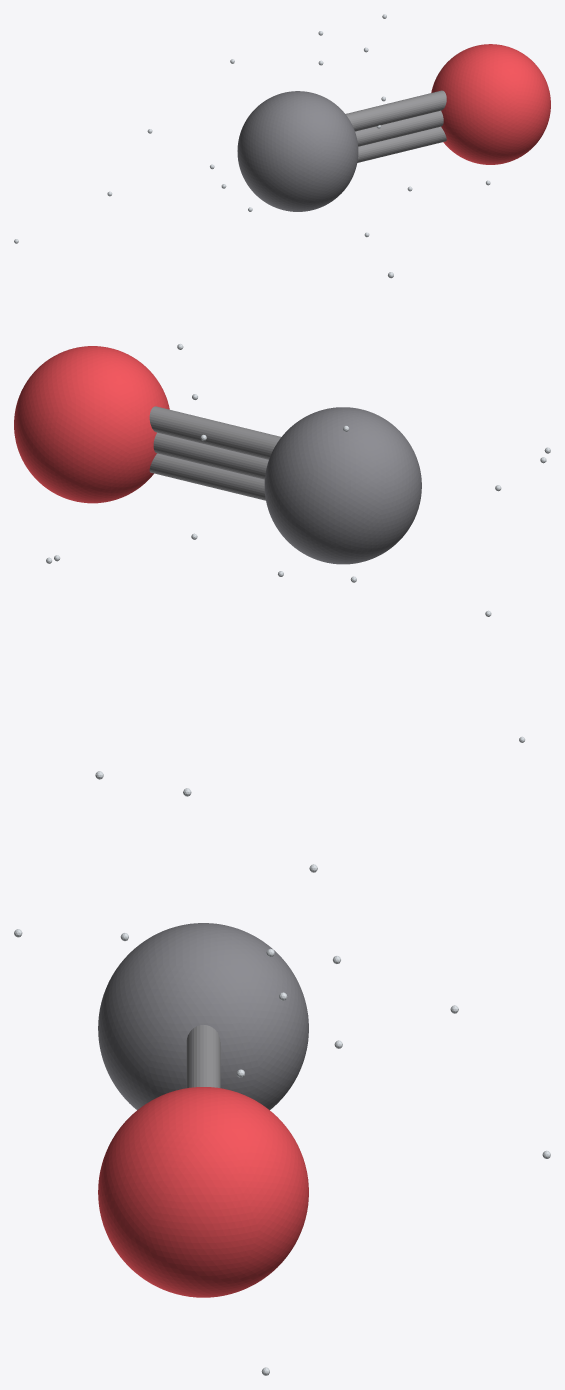
File: carbon_monoxide.glb
3 renders of one model, top to bottom at view 1: azimuth 30°, elevation 25°; view 2: azimuth 150°, elevation 25°; view 3: azimuth 270°, elevation 25°, orthographic. The views are drawn at different scales.
Visible parts, largest first — view 1: Carbon_C, Oxygen_O, TripleBond_2, TripleBond_3, TripleBond_1; view 2: Carbon_C, Oxygen_O, TripleBond_2, TripleBond_3, TripleBond_1; view 3: Oxygen_O, Carbon_C, TripleBond_2.
Boxes of the visible parts, x1,y1,x2,y2 form: Carbon_C: [237, 91, 358, 211]; Oxygen_O: [431, 44, 550, 164]; TripleBond_2: [345, 90, 446, 131]; TripleBond_3: [357, 126, 446, 162]; TripleBond_1: [355, 110, 443, 146]; Carbon_C: [264, 407, 421, 564]; Oxygen_O: [14, 346, 169, 503]; TripleBond_2: [149, 406, 281, 459]; TripleBond_3: [149, 453, 265, 500]; TripleBond_1: [153, 432, 268, 479]; Oxygen_O: [98, 1087, 308, 1297]; Carbon_C: [98, 923, 308, 1110]; TripleBond_2: [186, 1025, 220, 1088].
Size of the model in its own units: 5.39 by 2.73 by 3.15.
